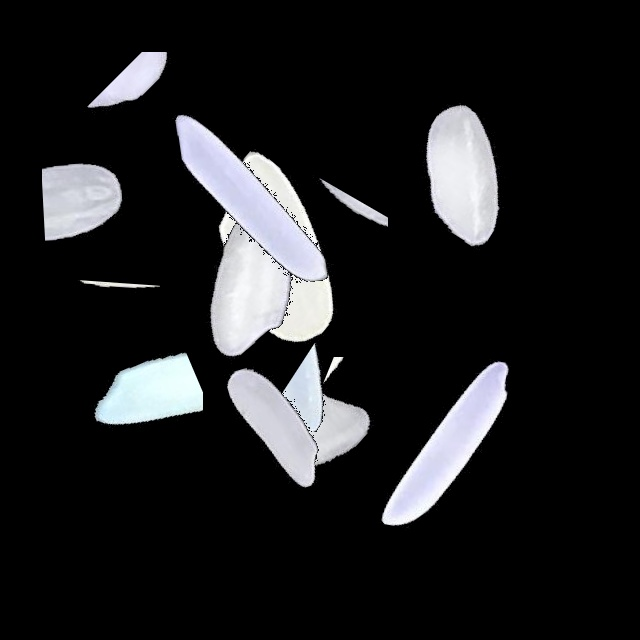Broken: (210, 327, 460, 471), (42, 73, 184, 323), (69, 283, 203, 533), (41, 52, 291, 171), (233, 322, 483, 432), (284, 123, 388, 373), (237, 357, 487, 441), (77, 199, 160, 449), (152, 427, 402, 503)
Full: (338, 49, 588, 299), (150, 127, 400, 377), (323, 317, 573, 567), (122, 155, 372, 405), (151, 301, 401, 551), (127, 73, 377, 323)
